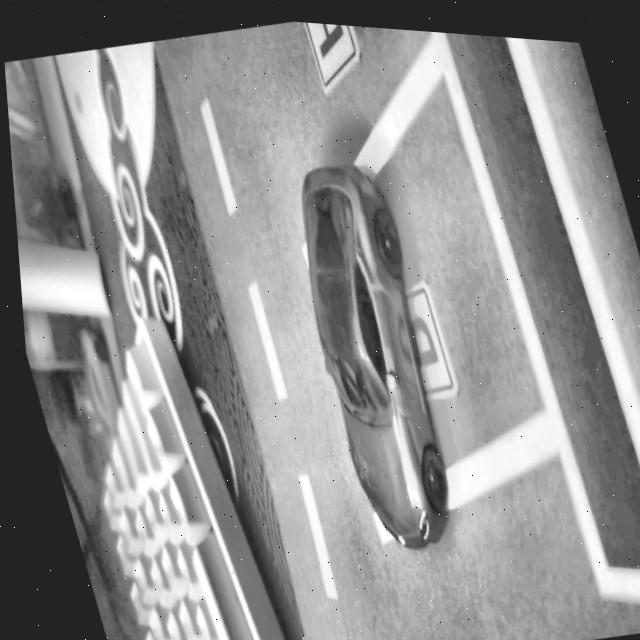car: (264, 143, 478, 555), (66, 322, 126, 449)
